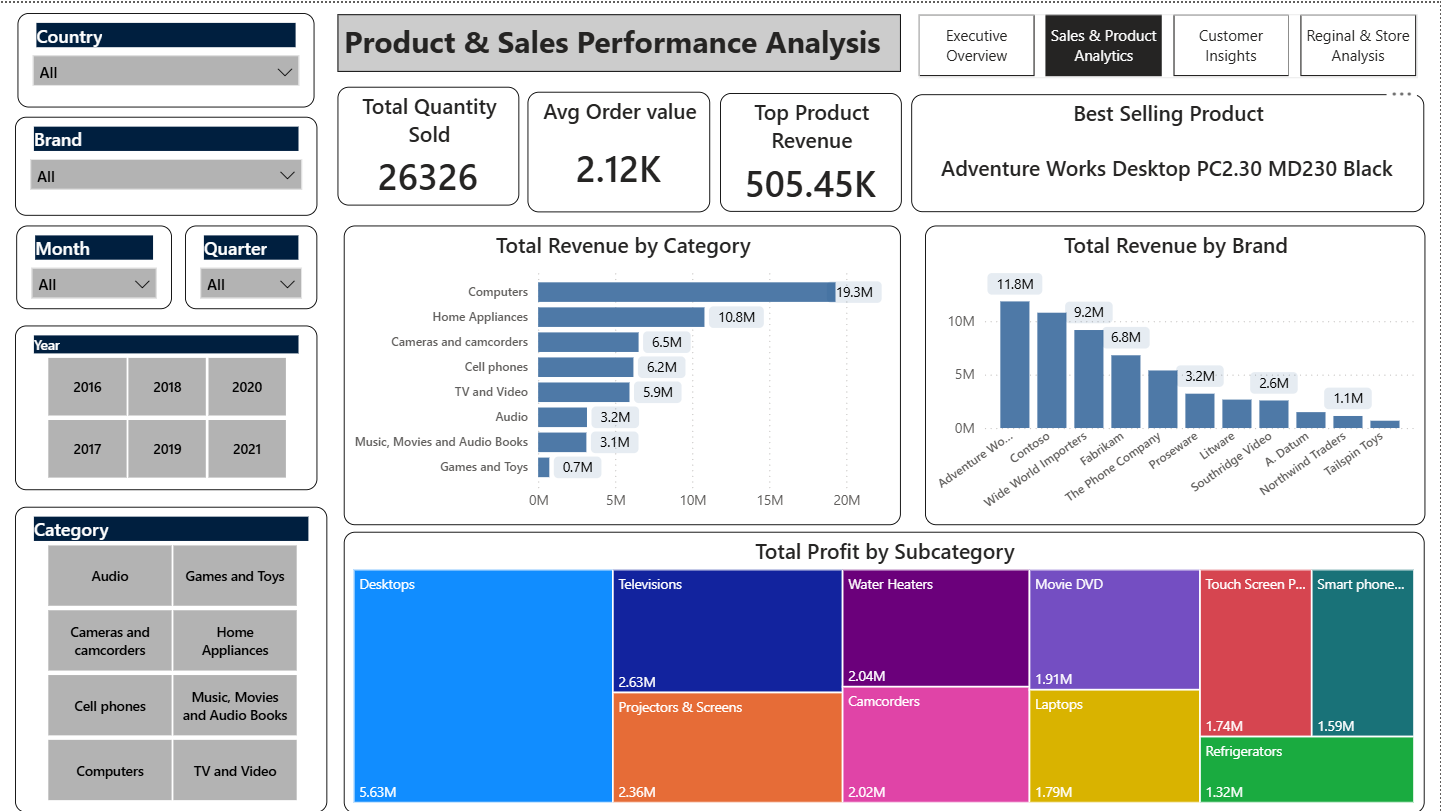

The dashboard page shown, as its layout file describes it:
{"tool":"powerbi","page":{"name":"Sales & Product Analytics","canvas":[1280,720],"ordinal":1},"visuals":[{"type":"slicer","fields":{"Values":["Customers.Country"]},"box":[15.1,9.3,264,83.7],"z":0},{"type":"cardVisual","title":"Total Quantity Sold","fields":{"Data":["Customers.Total Orders"]},"box":[300.5,74.1,161.9,105.7],"z":1000},{"type":"cardVisual","title":"Top Product Revenue","fields":{"Data":["Customers.Top Product Revenue"]},"box":[639.5,80.2,161.6,105.8],"z":2000},{"type":"cardVisual","title":"Best Selling Product","fields":{"Data":["Customers.Best Selling Product"]},"box":[810.5,81.4,455.8,104.7],"z":3000},{"type":"cardVisual","title":"Avg Order value","fields":{"Data":["Customers.Average Order Value"]},"box":[468.6,79.1,162.8,107],"z":4000},{"type":"slicer","fields":{"Values":["Products.Category"]},"box":[12.8,447.7,277.9,272.1],"z":5000},{"type":"slicer","fields":{"Values":["Products.Brand"]},"box":[12.8,101.2,268.6,88.4],"z":6000},{"type":"slicer","fields":{"Values":["DateTable.Month Name"]},"box":[14,197.7,138.4,74.4],"z":7000},{"type":"slicer","fields":{"Values":["DateTable.Year"]},"box":[12.8,287.2,268.6,146.5],"z":8000},{"type":"slicer","fields":{"Values":["DateTable.Quarter"]},"box":[164,197.7,117.4,74.4],"z":9000},{"type":"textbox","box":[300,10.5,501.2,51.2],"z":10000},{"type":"clusteredBarChart","fields":{"Y":["Customers.Total Revenue"],"Category":["Products.Category"]},"box":[306,197.6,495.4,266.2],"z":11000},{"type":"treemap","fields":{"Group":["Products.Subcategory"],"Values":["Customers.Total Profit"]},"box":[305.8,469.8,960.5,250],"z":12000},{"type":"clusteredColumnChart","fields":{"Category":["Products.Brand"],"Y":["Customers.Total Revenue"]},"box":[822,197.6,444.6,266.2],"z":13000},{"type":"pageNavigator","box":[816.3,10.5,444.2,55.8],"z":14000}]}

Visuals, with their boxes in screenshot pixels (x1, y1, x2, y2), scaled from the page's 1280x720 canvas onto the 1441x811 screenshot:
slicer - Customers.Country: (x1=17, y1=10, x2=314, y2=105)
"Total Quantity Sold" cardVisual: (x1=338, y1=83, x2=521, y2=203)
"Top Product Revenue" cardVisual: (x1=720, y1=90, x2=902, y2=210)
"Best Selling Product" cardVisual: (x1=912, y1=92, x2=1426, y2=210)
"Avg Order value" cardVisual: (x1=528, y1=89, x2=711, y2=210)
slicer - Products.Category: (x1=14, y1=504, x2=327, y2=810)
slicer - Products.Brand: (x1=14, y1=114, x2=317, y2=214)
slicer - DateTable.Month Name: (x1=16, y1=223, x2=172, y2=306)
slicer - DateTable.Year: (x1=14, y1=323, x2=317, y2=489)
slicer - DateTable.Quarter: (x1=185, y1=223, x2=317, y2=306)
textbox: (x1=338, y1=12, x2=902, y2=69)
clusteredBarChart - Customers.Total Revenue x Products.Category: (x1=344, y1=223, x2=902, y2=522)
treemap - Products.Subcategory x Customers.Total Profit: (x1=344, y1=529, x2=1426, y2=810)
clusteredColumnChart - Products.Brand x Customers.Total Revenue: (x1=925, y1=223, x2=1426, y2=522)
pageNavigator: (x1=919, y1=12, x2=1419, y2=75)
